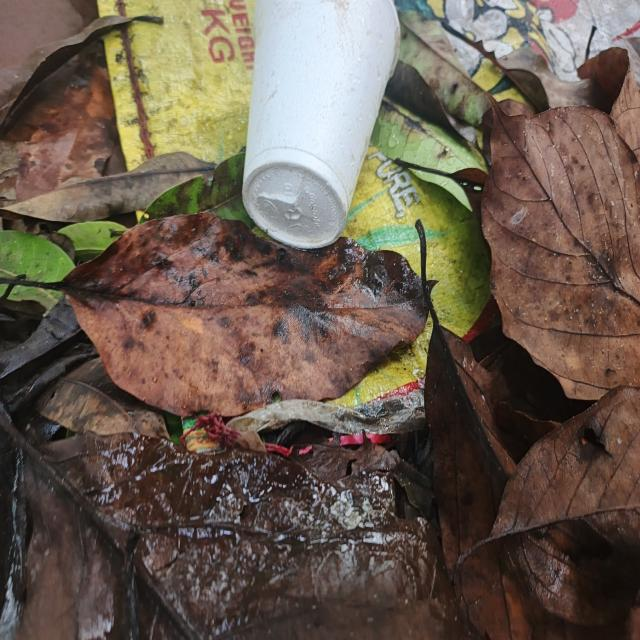plastic: (235, 0, 404, 260)
